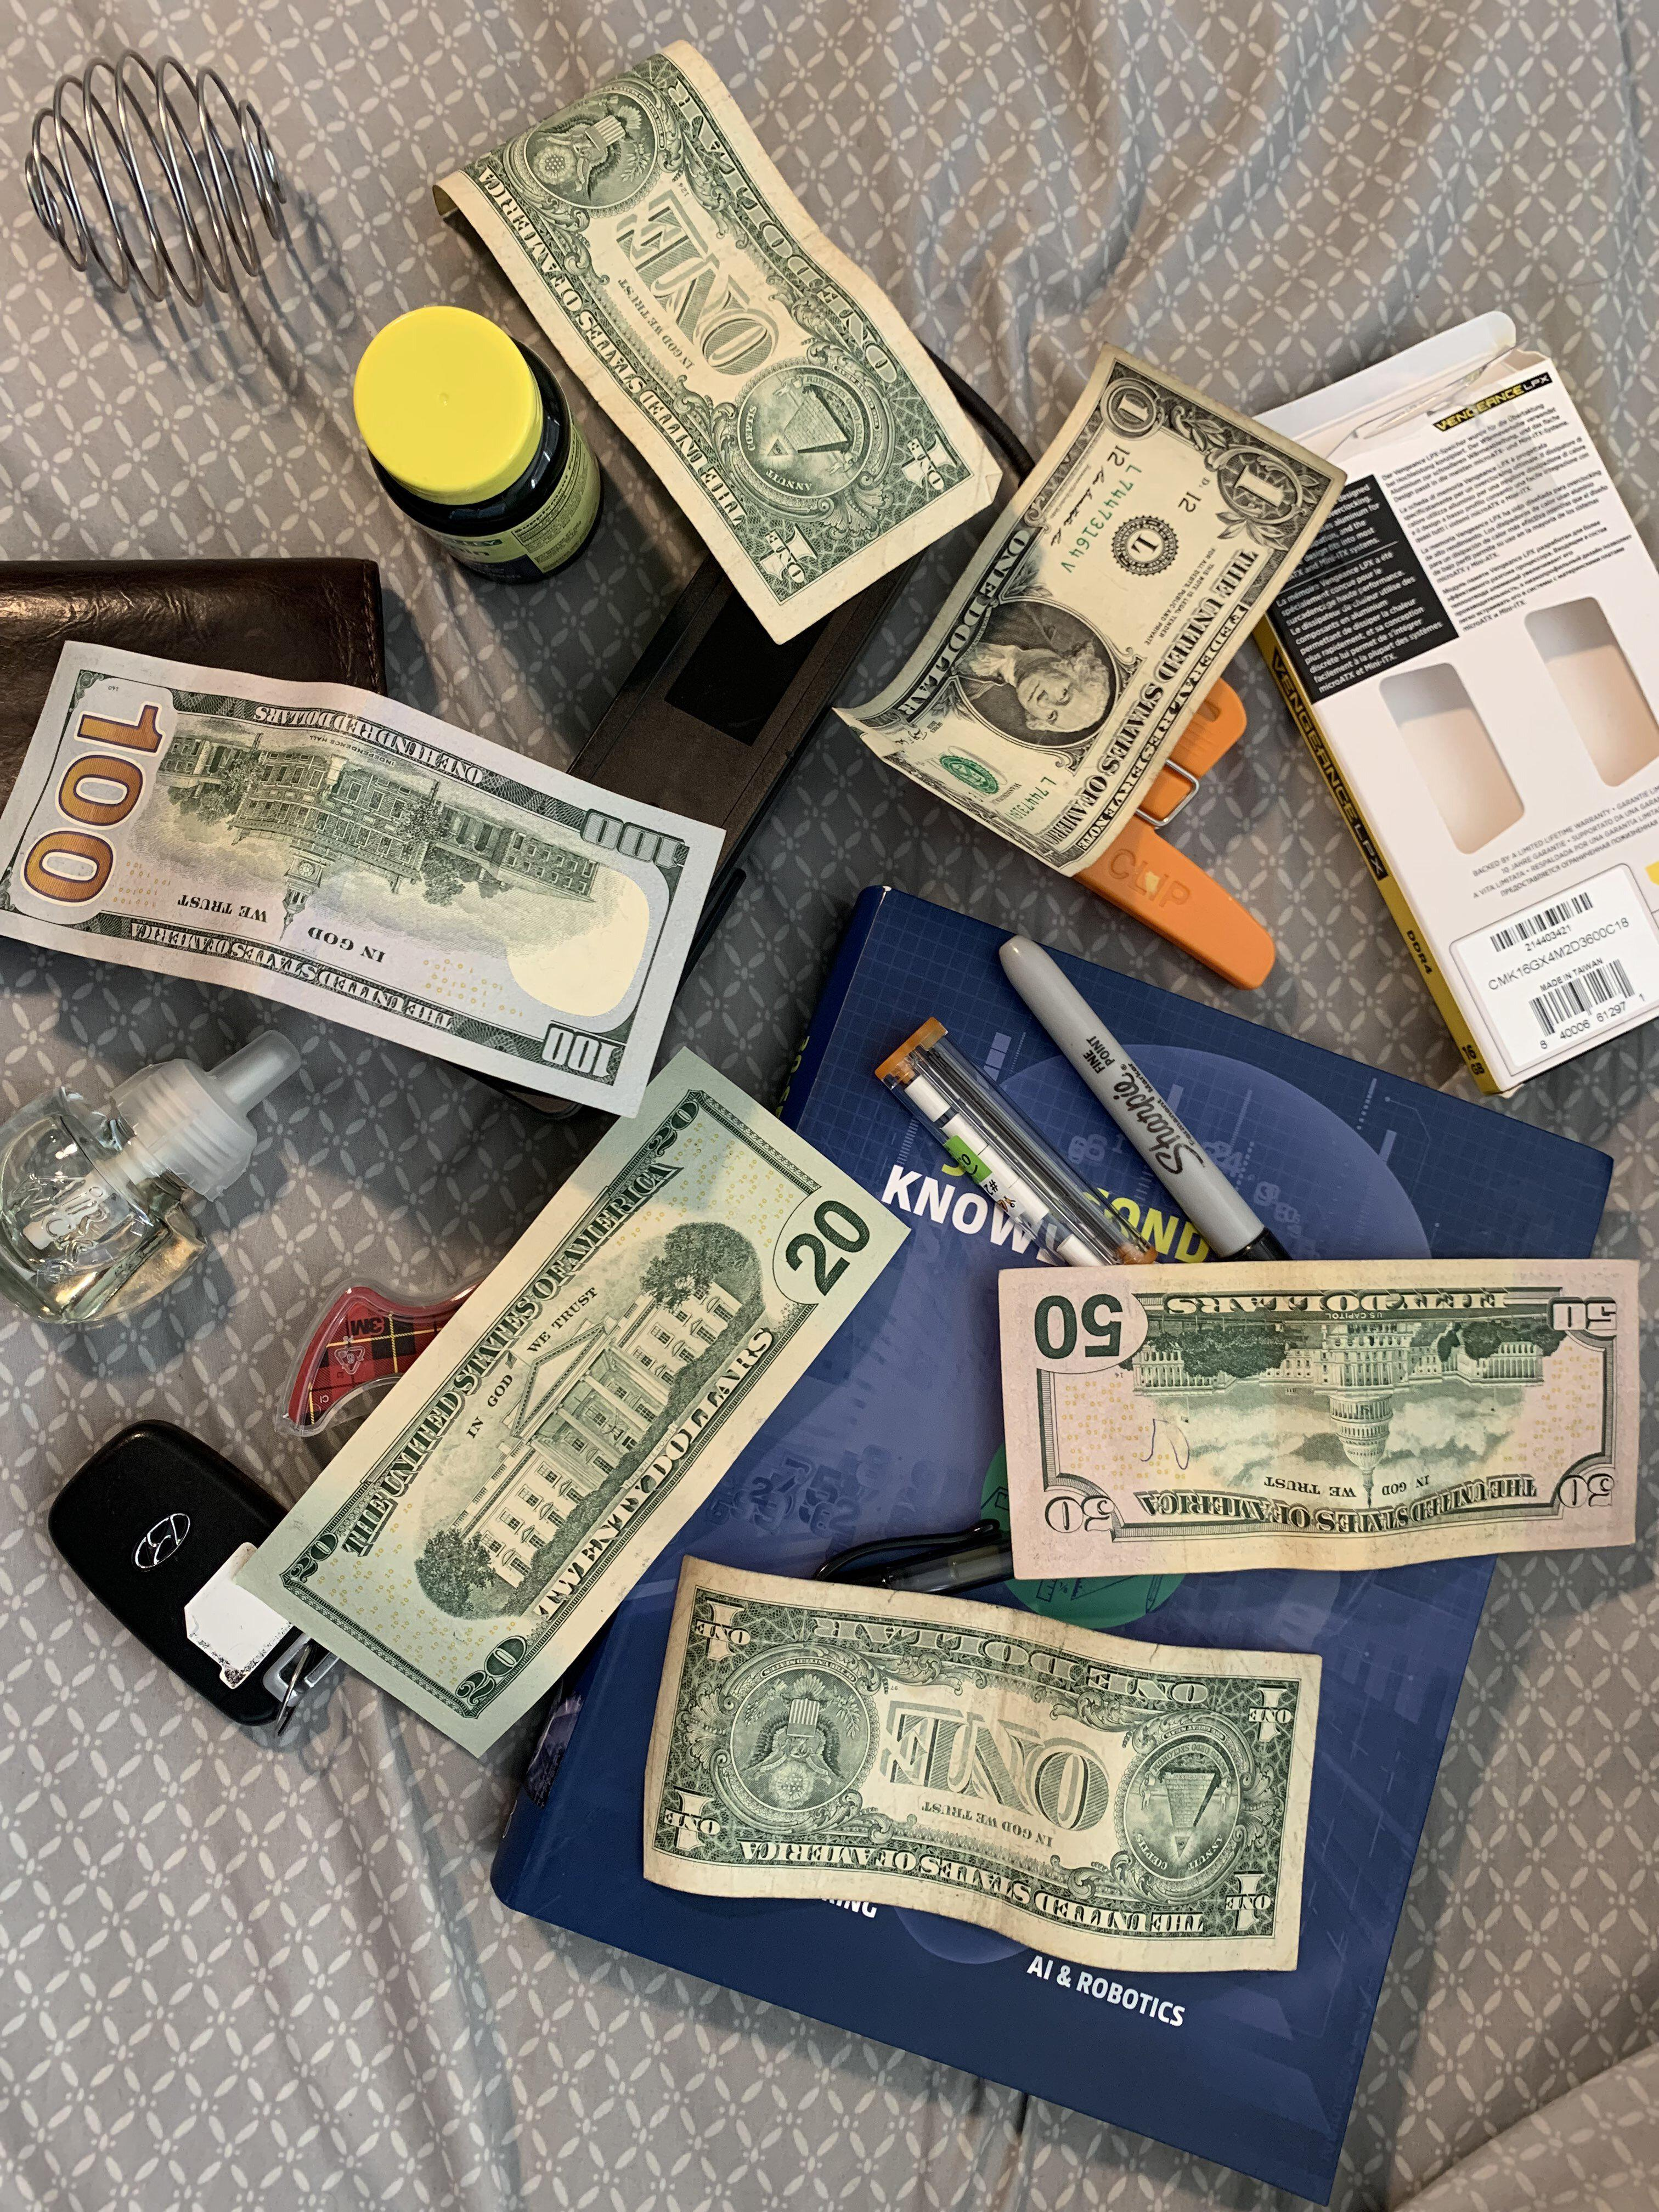FiftyBill: (962, 1233, 1657, 1608)
HundredBill: (0, 613, 772, 1155)
OneBill: (361, 23, 1012, 646), (626, 1519, 1340, 2034), (809, 334, 1394, 897)
TwentyBill: (207, 1005, 943, 1768)
